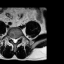CCS_normal: (14, 36, 15, 45)
LFS_normal: (17, 35, 20, 42)
LLS_normal: (15, 36, 17, 44)
RFS_stenosis: (10, 34, 12, 41)
RLS_normal: (12, 35, 14, 43)
